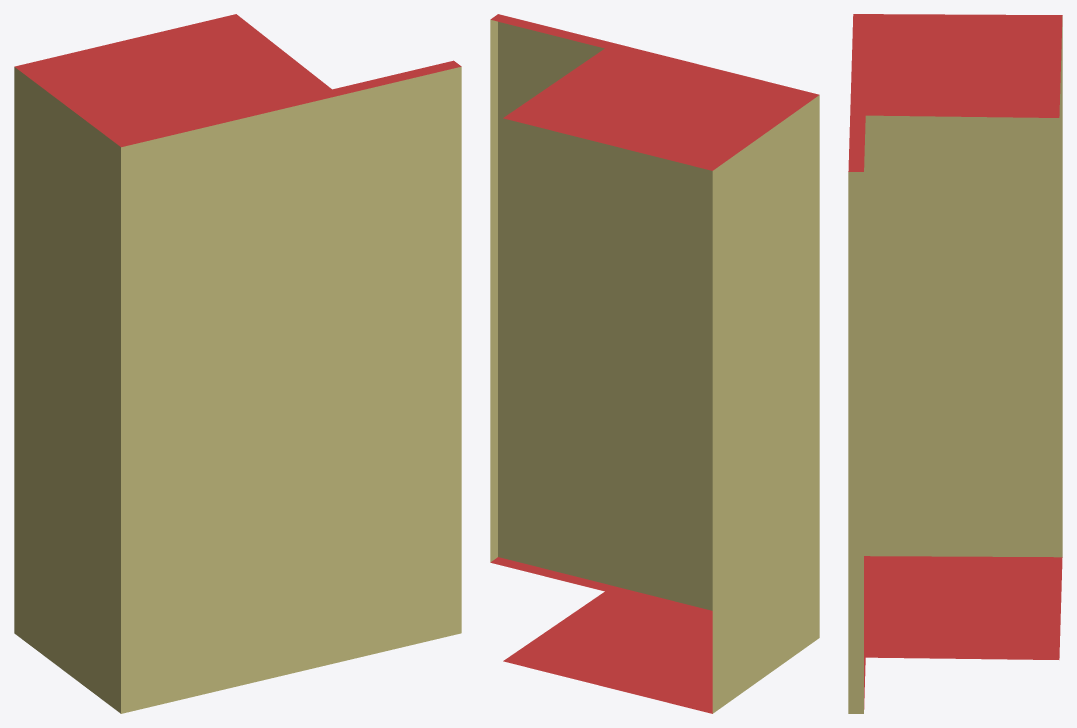
The picture shows the model from 3 angles, left to right: view 1: azimuth 30°, elevation 25°; view 2: azimuth 150°, elevation 25°; view 3: azimuth 270°, elevation 25°; orthographic projection. The views are drawn at different scales.
Bounding box in the file's own units: 7.9 × 4.53 × 12.64.
